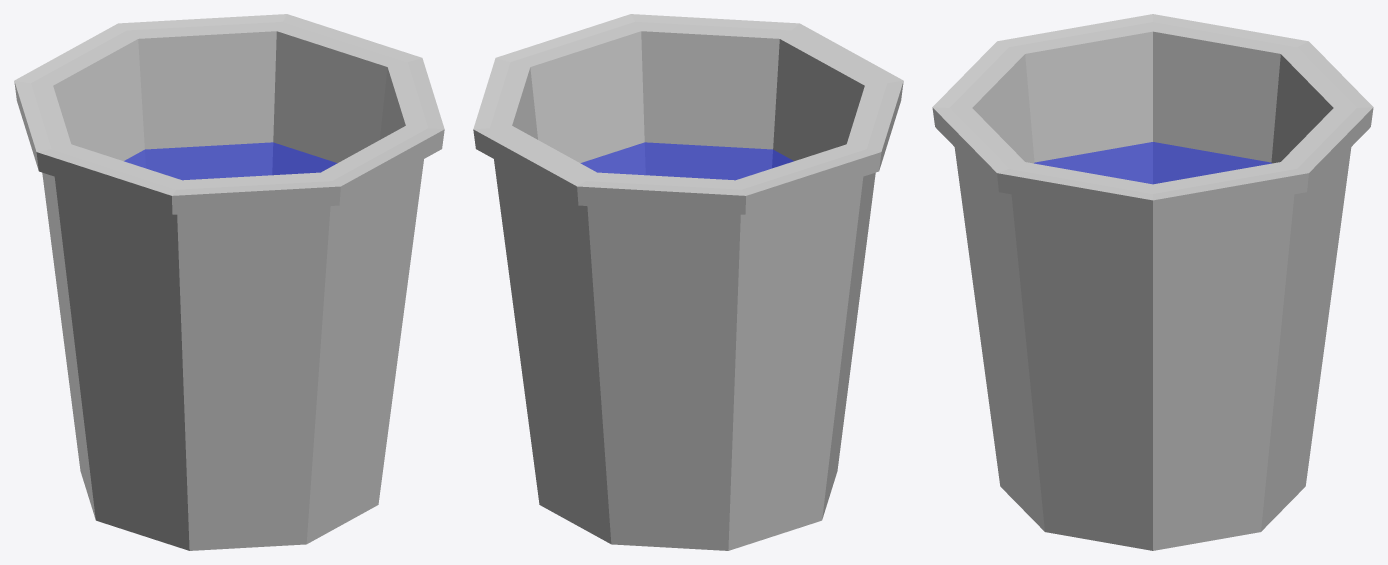
The model's file is Water.glb.
3 renders of one model, left to right at view 1: azimuth 30°, elevation 25°; view 2: azimuth 150°, elevation 25°; view 3: azimuth 270°, elevation 25°, orthographic.
Visible parts, largest first — view 1: WaterCup, Water; view 2: WaterCup, Water; view 3: WaterCup, Water.
Part boxes in pixels (box(x1,y1,x2,y2)): WaterCup: box(14, 14, 444, 550); Water: box(124, 142, 336, 180); WaterCup: box(473, 14, 903, 550); Water: box(581, 142, 793, 180); WaterCup: box(932, 14, 1373, 550); Water: box(1034, 142, 1271, 184).
Bounding box in the file's own units: 0.2319 × 0.22 × 0.2319.
